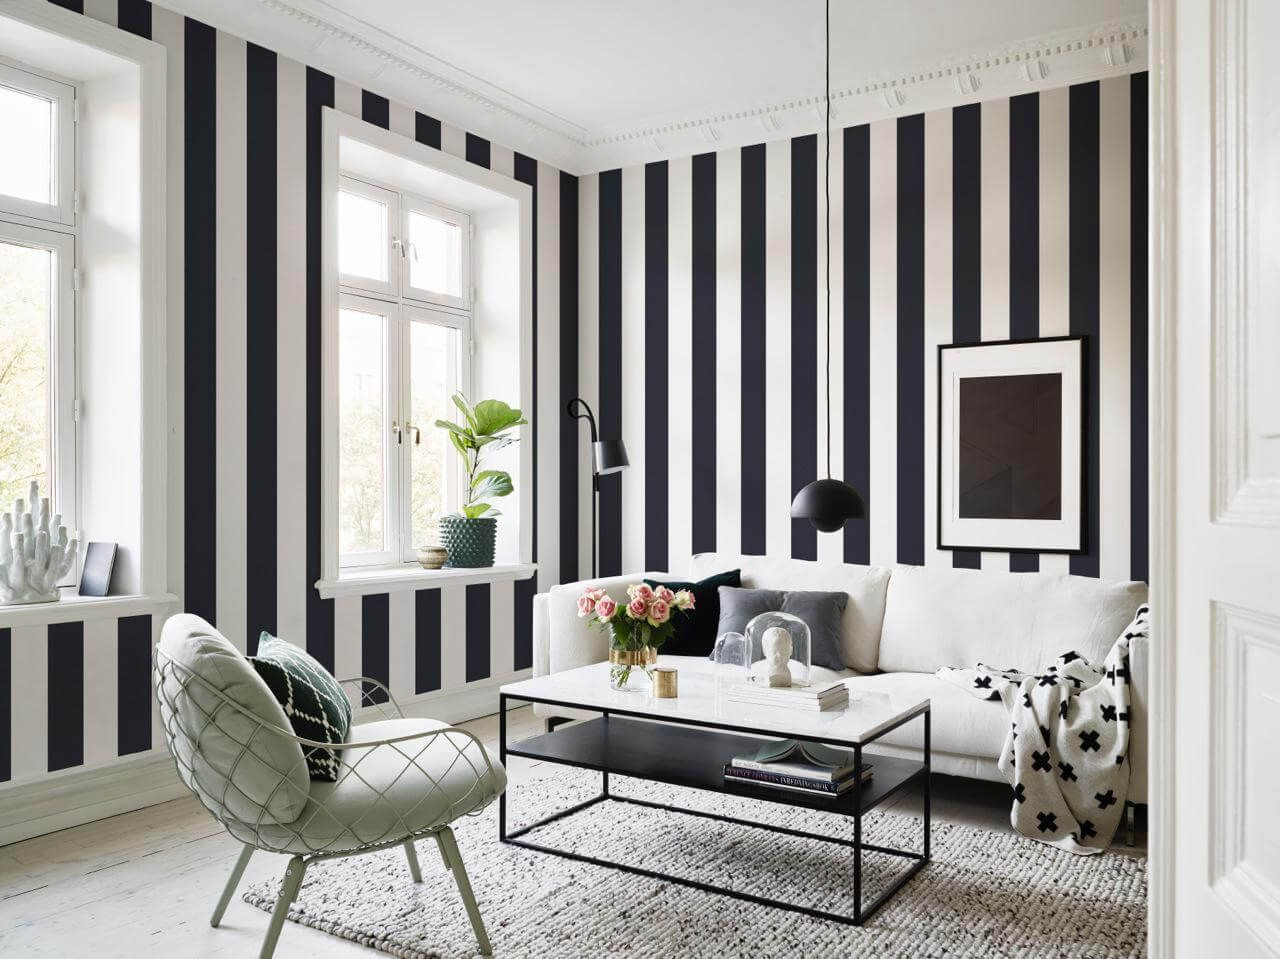bantal: (245, 637, 362, 783), (701, 583, 850, 679)
buku: (718, 685, 851, 718)
kursi: (145, 609, 518, 953)
lukisan: (925, 339, 1094, 563)
meja: (490, 663, 948, 925)
sova: (532, 542, 1148, 828)
tanaman: (427, 388, 513, 567), (571, 574, 678, 697)
